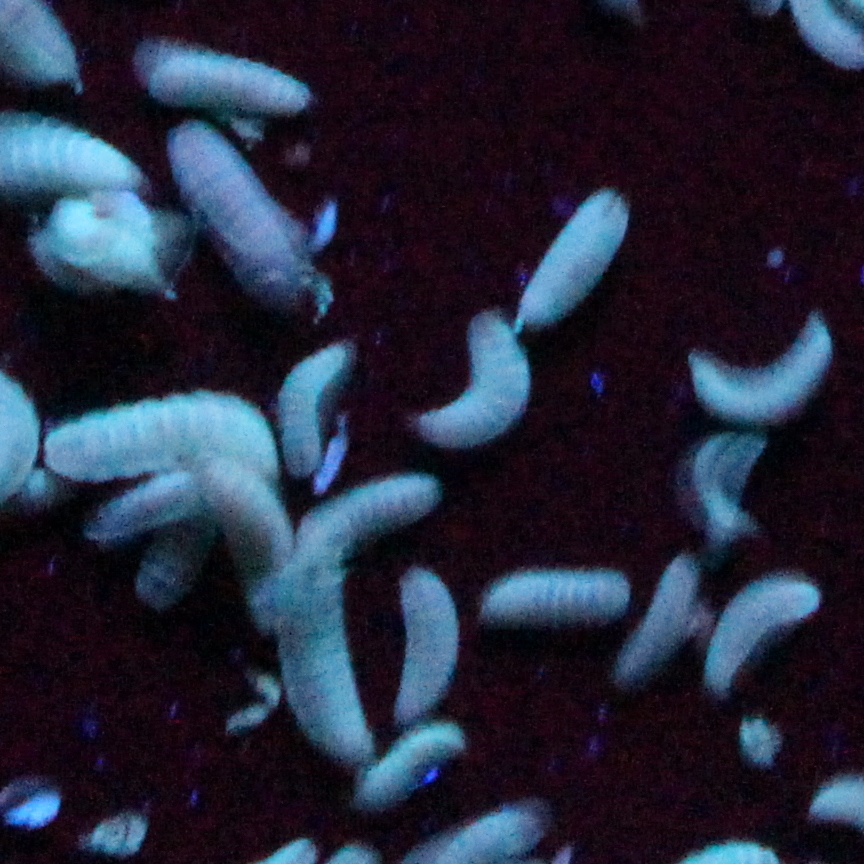larve: (167, 124, 322, 301), (280, 530, 376, 766), (47, 393, 280, 474), (513, 187, 628, 330), (686, 312, 832, 424), (201, 457, 297, 626), (703, 566, 824, 695), (417, 309, 528, 443), (297, 470, 442, 557), (142, 43, 317, 114), (617, 555, 701, 689), (394, 562, 461, 722), (80, 464, 215, 543), (678, 428, 765, 549), (280, 339, 357, 474), (353, 722, 469, 805), (476, 570, 636, 618)
